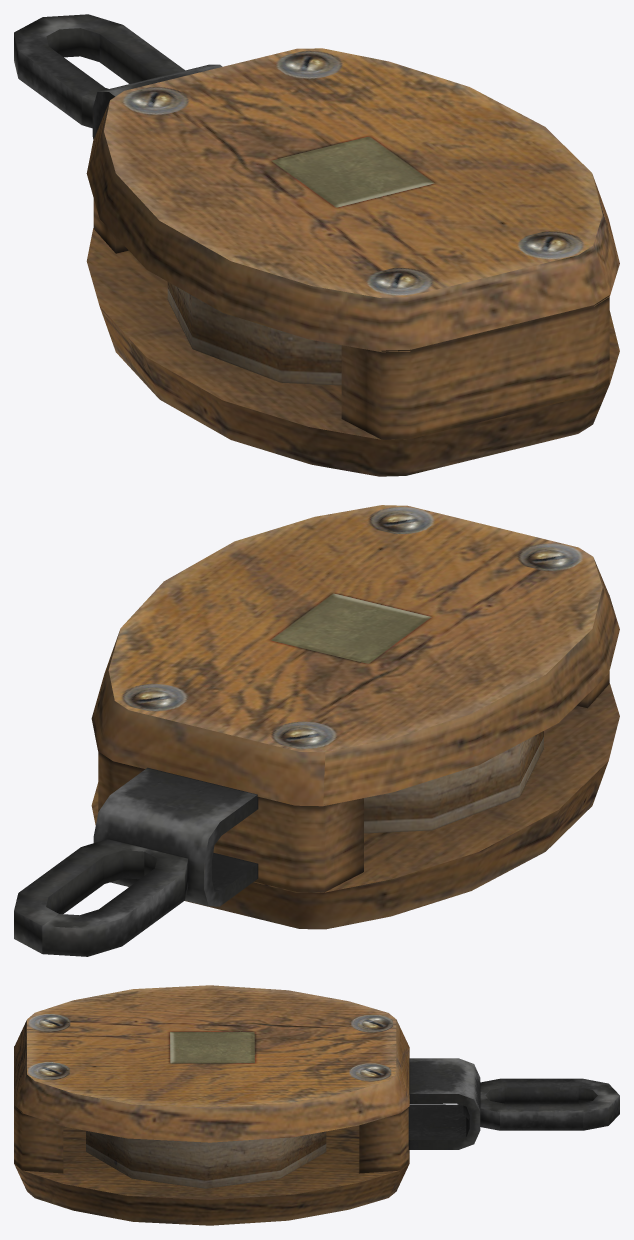
Rendered from pulley.fbx.
3 renders of one model, top to bottom at view 1: azimuth 30°, elevation 25°; view 2: azimuth 150°, elevation 25°; view 3: azimuth 270°, elevation 25°, orthographic. The views are drawn at different scales.
Parts seen in each view (by area): view 1: block 1 sheave; view 2: block 1 sheave; view 3: block 1 sheave.
Boxes of the visible parts, x1,y1,x2,y2 form: block 1 sheave: (14, 14, 619, 476); block 1 sheave: (14, 505, 619, 956); block 1 sheave: (14, 985, 619, 1225).
Size of the model in its own units: 24 by 46.69 by 9.96.
Materials: 1 (1 with a texture image).
